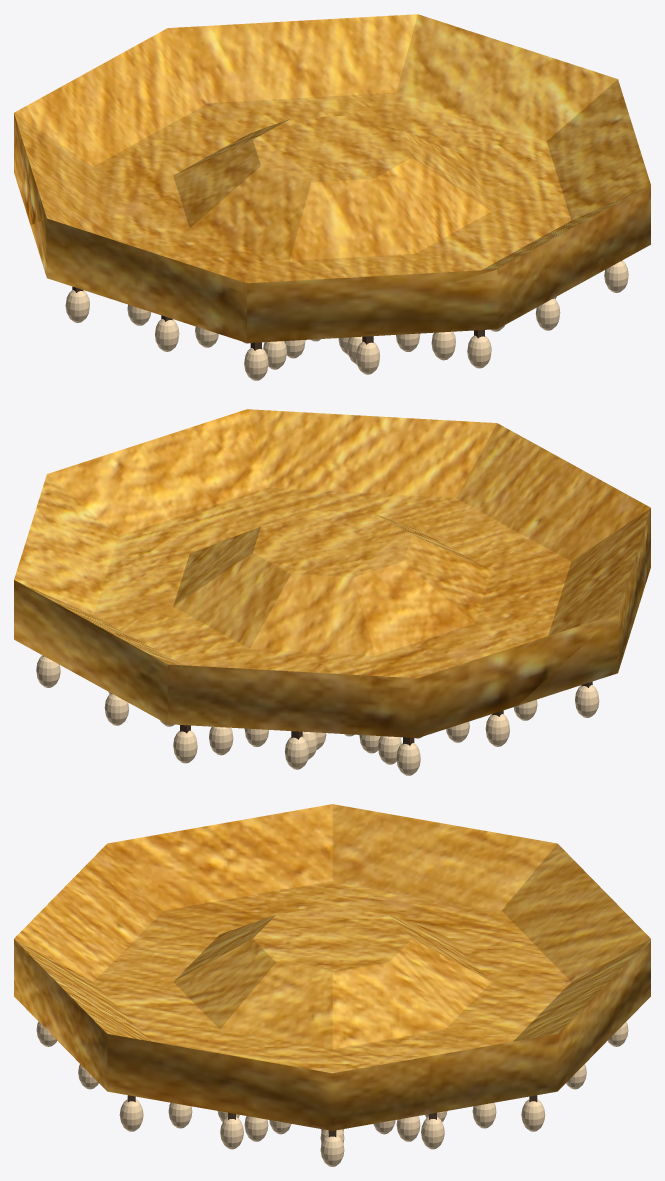
The model's file is Lustre.fbx.
3 renders of one model, top to bottom at view 1: azimuth 30°, elevation 25°; view 2: azimuth 150°, elevation 25°; view 3: azimuth 270°, elevation 25°, orthographic. The views are drawn at different scales.
Visible parts, largest first — view 1: Lustre; view 2: Lustre; view 3: Lustre.
Part boxes in pixels (left/top/right/bottom): Lustre: left=14, top=14, right=650, bottom=380; Lustre: left=14, top=409, right=650, bottom=775; Lustre: left=14, top=804, right=650, bottom=1166.
Size of the model in its own units: 1000 by 276 by 1000.
